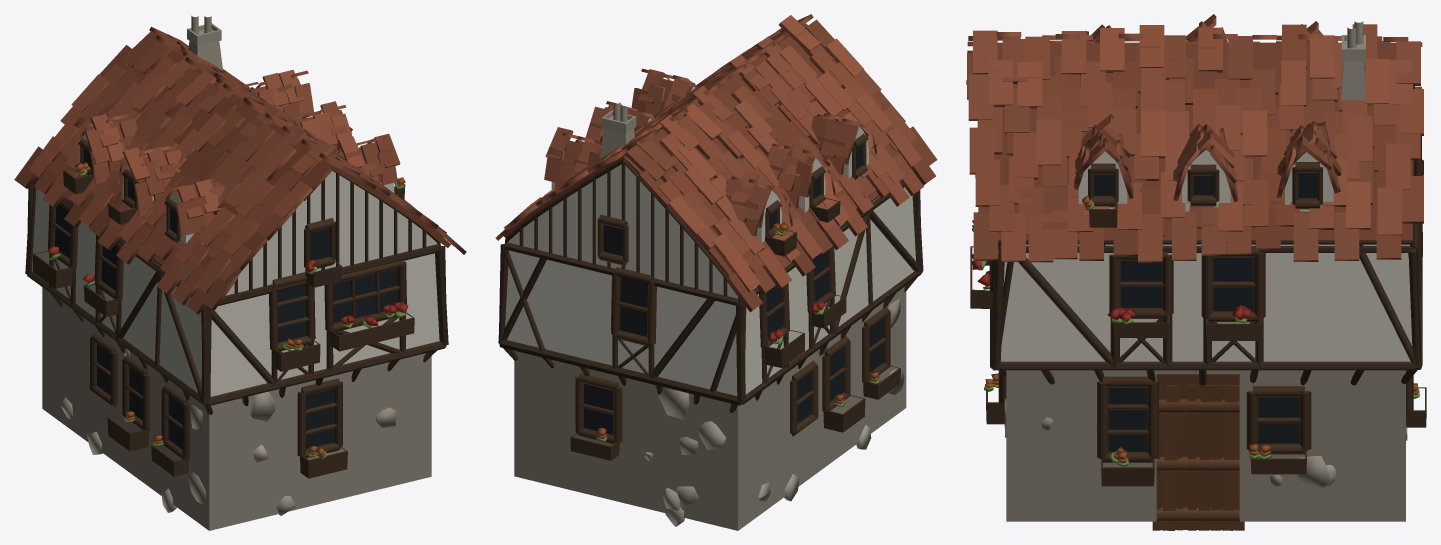
Rendered from house_26.glb.
The picture shows the model from 3 angles, left to right: view 1: azimuth 30°, elevation 25°; view 2: azimuth 150°, elevation 25°; view 3: azimuth 270°, elevation 25°; orthographic projection. The views are drawn at different scales.
Visible parts, largest first — view 1: house_26; view 2: house_26; view 3: house_26.
Boxes of the visible parts, <box> form: house_26: <box>14,15,466,530</box>; house_26: <box>495,14,937,530</box>; house_26: <box>966,14,1426,530</box>.
Bounding box in the file's own units: 5.08 × 6.75 × 6.06.
